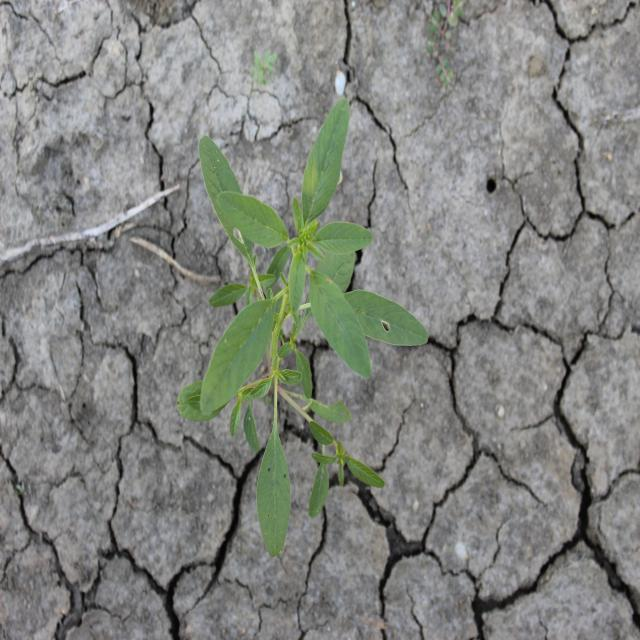Waterhemp: (175, 97, 430, 560)
